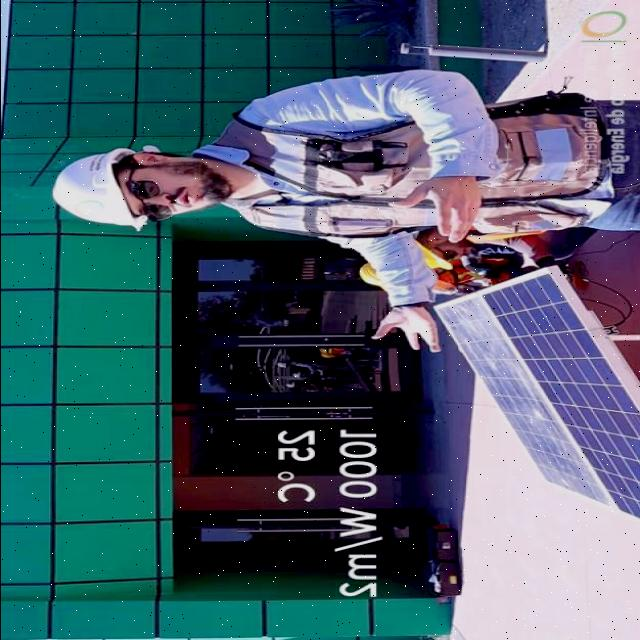Normal Solar Panel: (484, 269, 640, 522)
